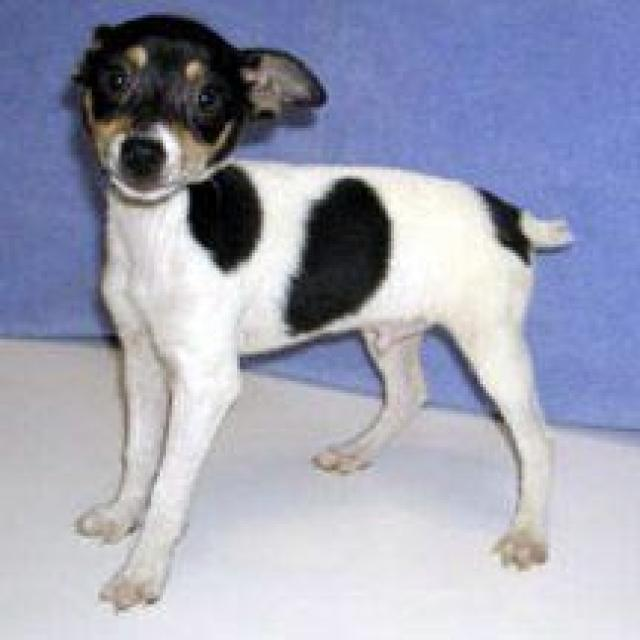toy_terrier: (59, 6, 581, 610)
